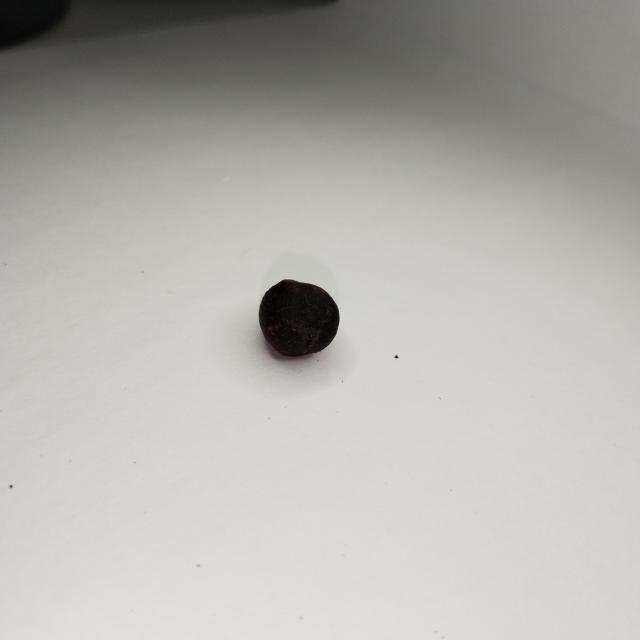Danado: (259, 280, 339, 358)
